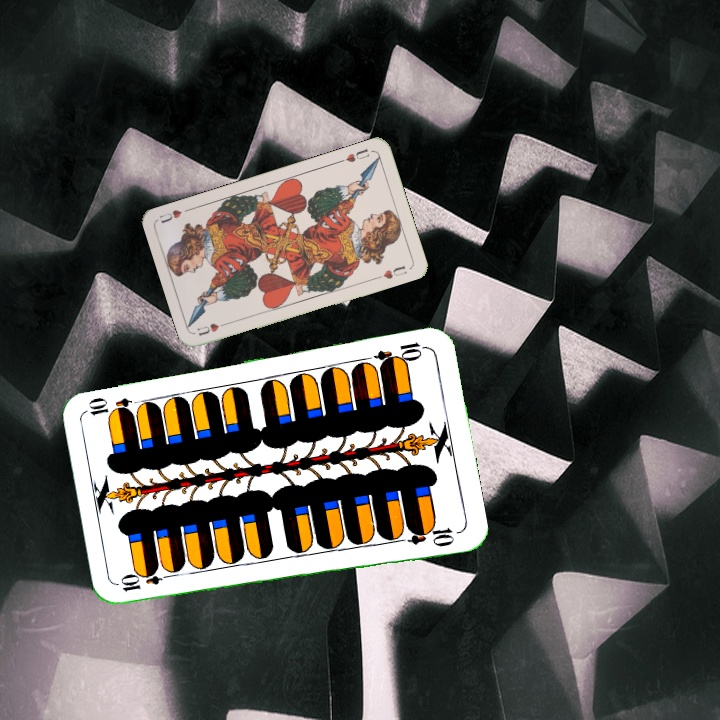E10: (371, 338, 430, 370), (116, 568, 176, 594)
HU: (193, 318, 232, 338), (335, 144, 372, 165)
